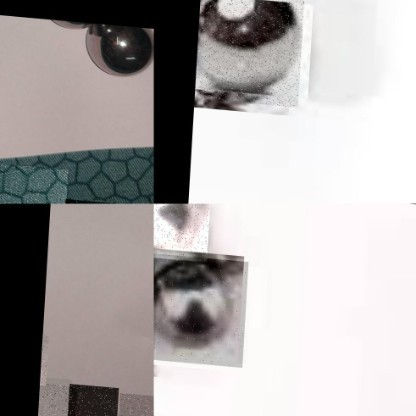ironball: (196, 0, 304, 103), (153, 249, 249, 362), (78, 20, 154, 78), (153, 203, 211, 257)
